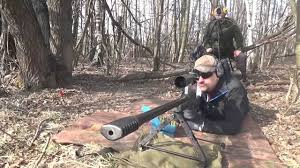Gun: (138, 75, 202, 127)
